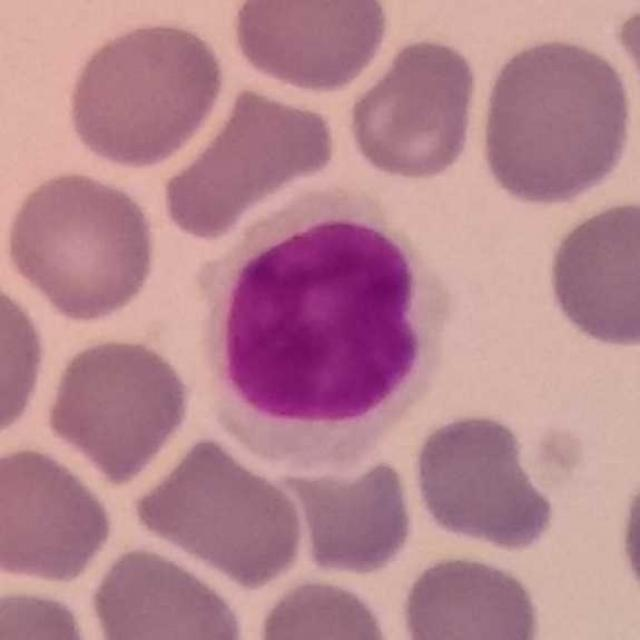Lymphocyte: (190, 167, 450, 475)
RBC: (156, 82, 337, 244), (473, 32, 636, 210), (129, 432, 310, 590), (62, 16, 226, 170), (1, 167, 160, 324), (40, 332, 196, 482), (409, 408, 563, 556), (343, 33, 483, 184), (281, 451, 418, 580), (0, 441, 117, 586), (86, 542, 252, 640), (226, 0, 393, 96), (542, 195, 640, 352), (397, 548, 545, 640), (253, 573, 397, 640), (0, 269, 50, 451), (0, 583, 100, 640), (613, 448, 640, 629), (612, 1, 640, 145)
